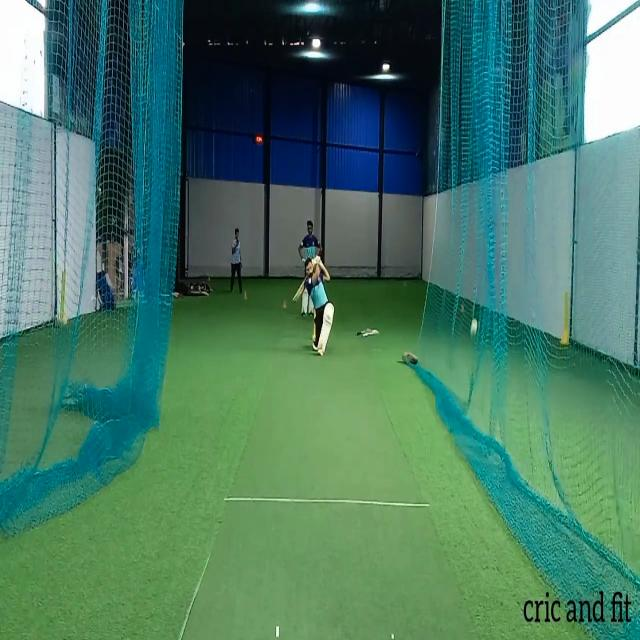batsman: (292, 254, 335, 358)
